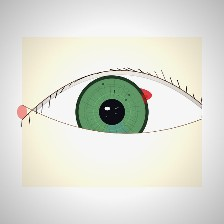hemorrhage_spot: (73, 59, 164, 132)
